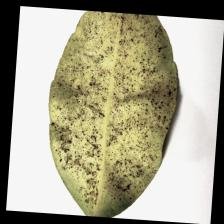canker: (69, 49, 153, 160)
